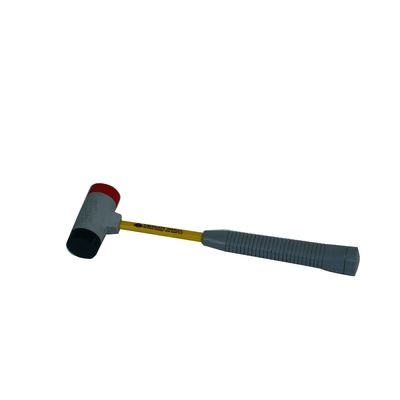hammer: (66, 177, 366, 286)
